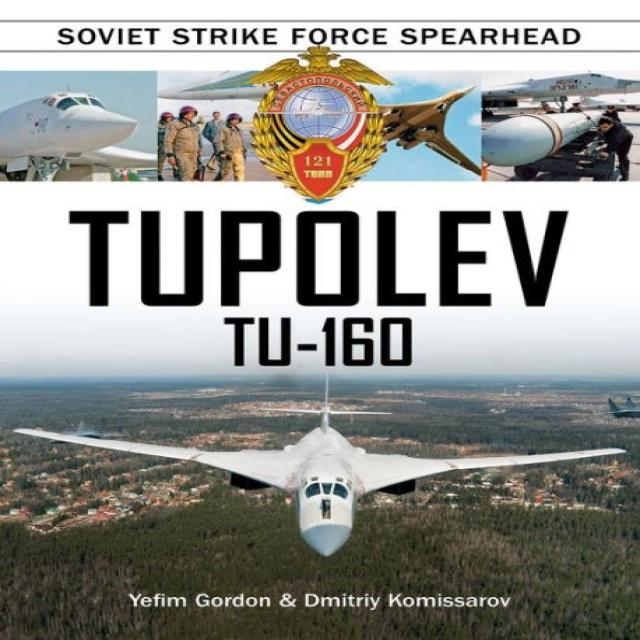Tu160: (11, 388, 640, 560)
